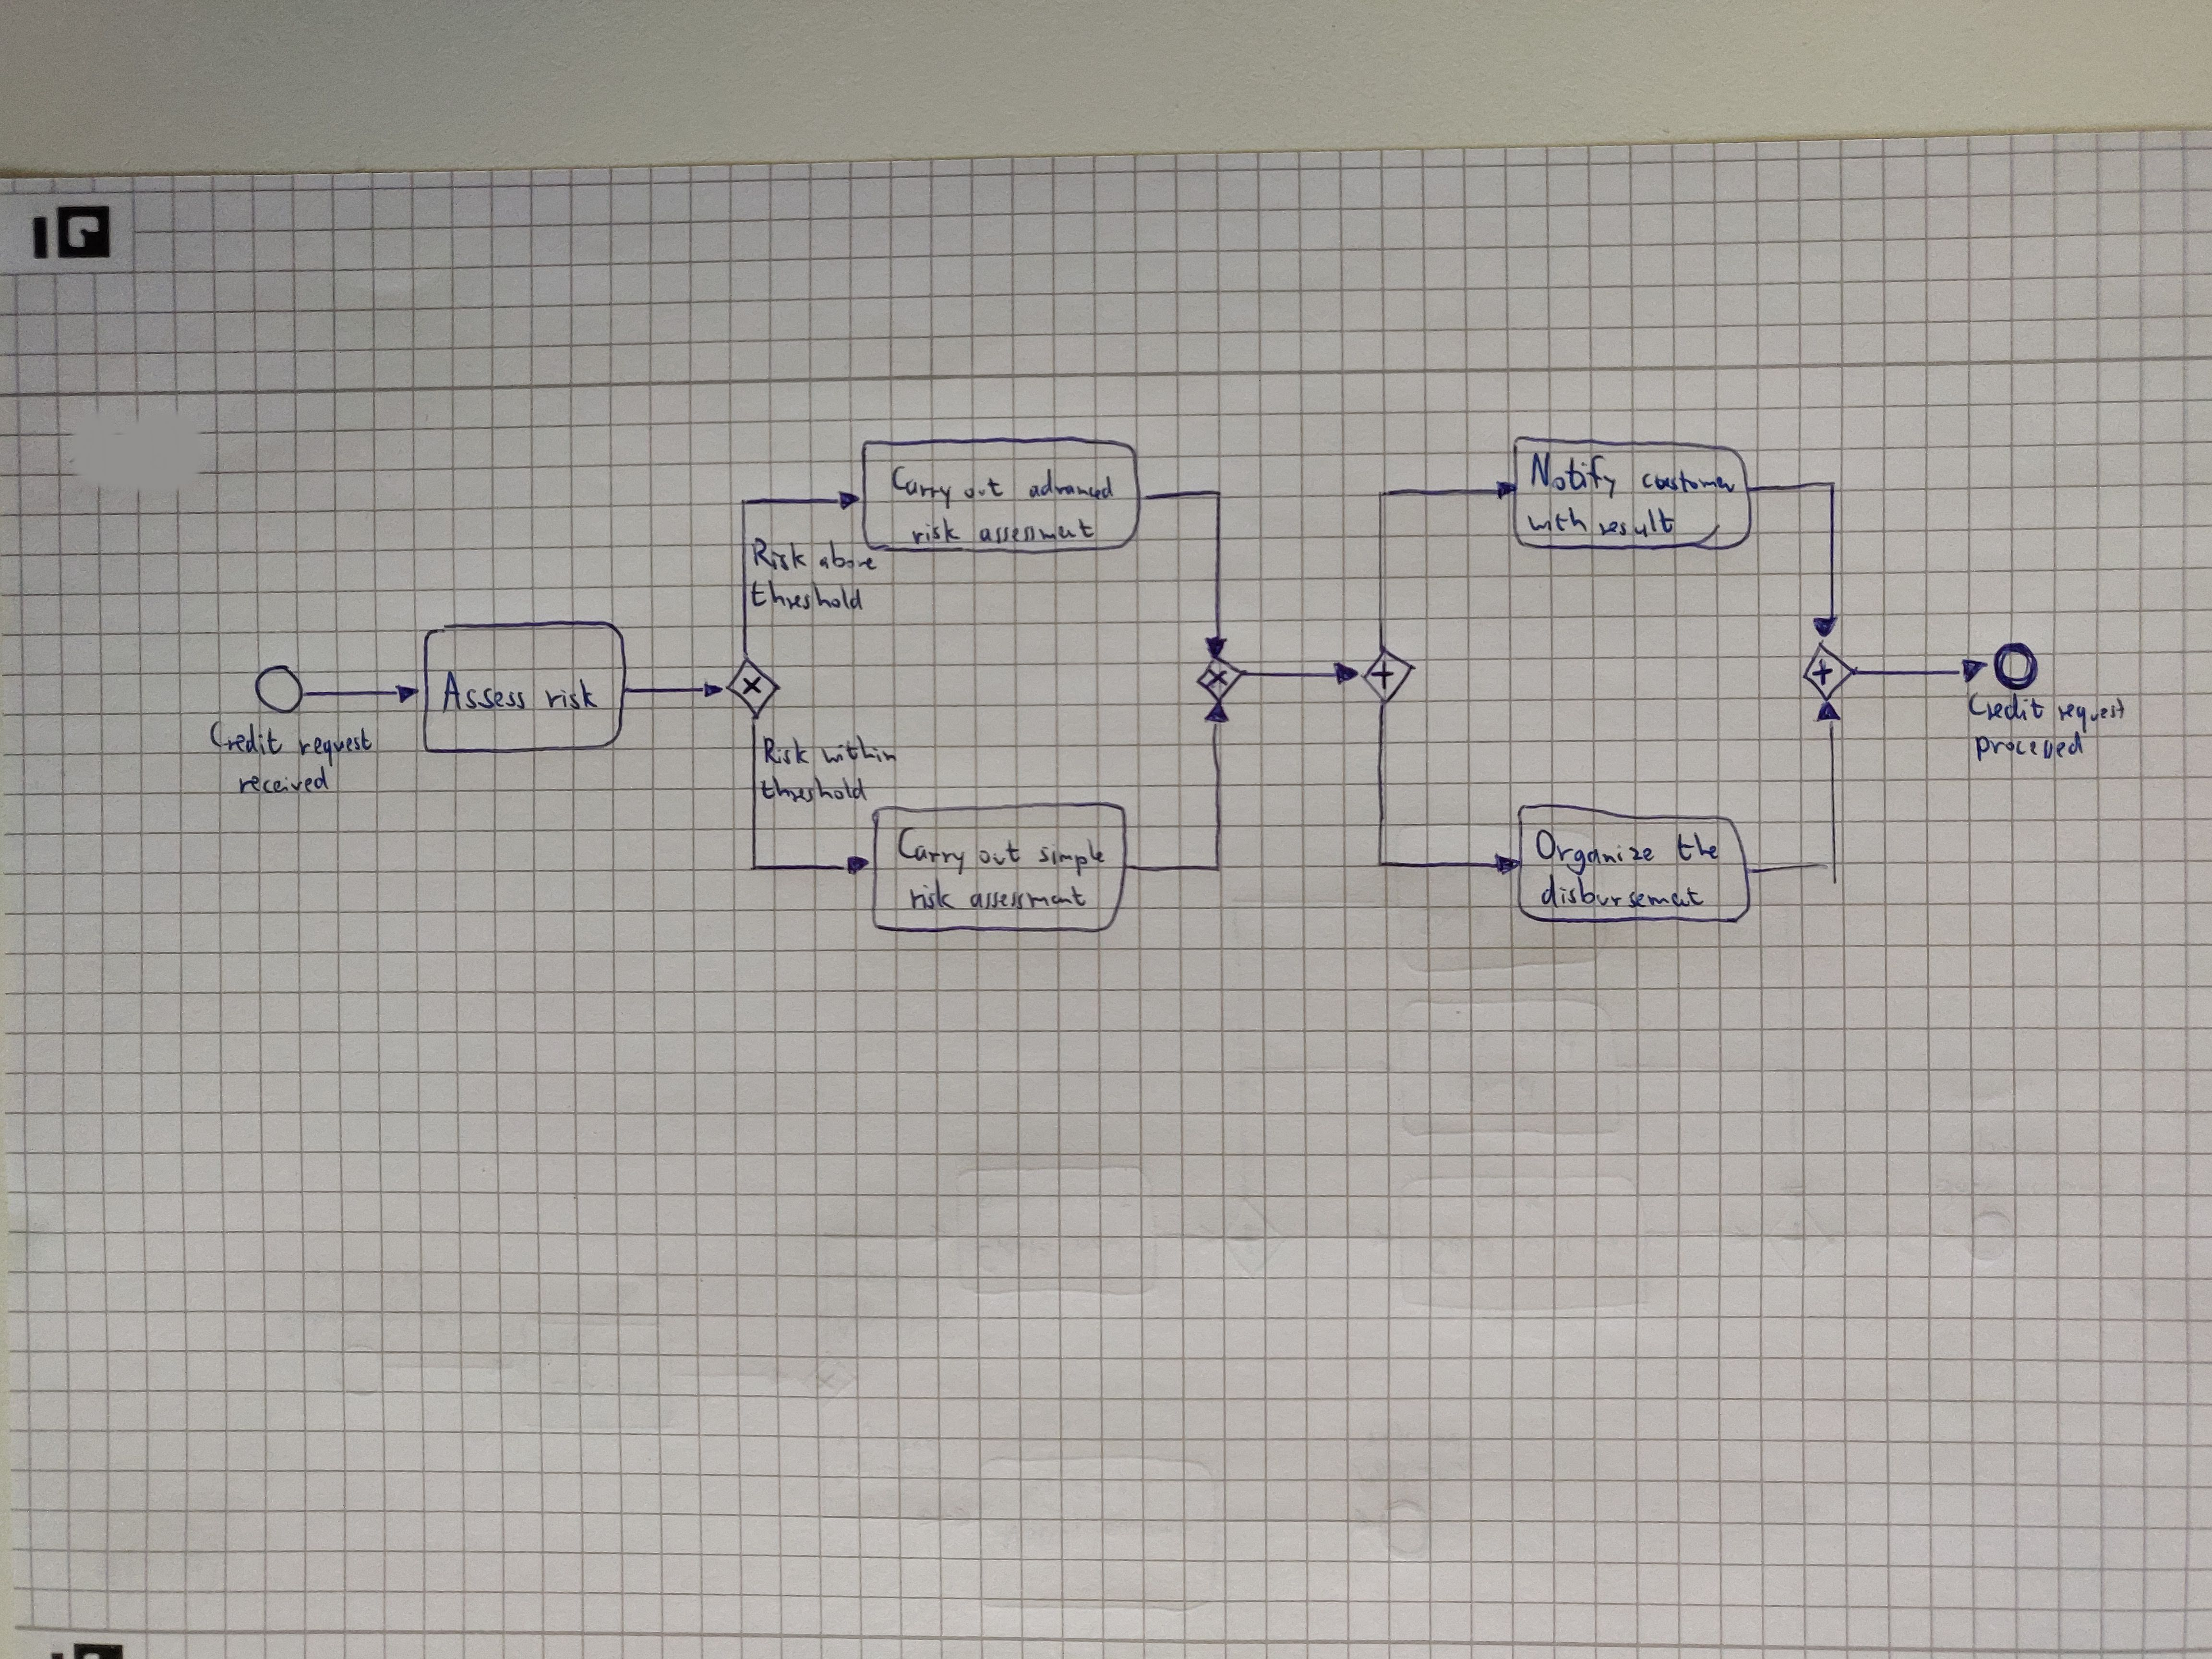Assess: (437, 667, 533, 716)
Carry: (894, 824, 968, 878), (888, 464, 954, 512)
Credit: (206, 718, 287, 758), (1965, 690, 2047, 725)
Notify: (1526, 450, 1618, 502)
Organize: (1533, 828, 1658, 878)
Risk: (749, 537, 810, 575), (761, 734, 812, 769)
above: (815, 537, 878, 573)
advanced: (1026, 465, 1116, 502)
assenmut: (977, 516, 1097, 545)
assessment: (967, 884, 1089, 913)
customer: (1637, 464, 1738, 497)
disbursement: (1538, 871, 1705, 911)
out: (975, 836, 1022, 870), (960, 474, 1007, 504)
proceded: (1972, 728, 2085, 763)
received: (237, 763, 333, 798)
request: (294, 725, 373, 770), (2054, 695, 2127, 735)
result: (1595, 505, 1679, 540)
risk: (540, 674, 601, 713), (907, 875, 958, 913), (909, 514, 963, 545)
simple: (1036, 836, 1108, 878)
the: (1674, 828, 1721, 864)
threshold: (749, 577, 866, 613), (758, 774, 871, 807)
with: (1524, 505, 1592, 535)
within: (819, 732, 899, 765)
